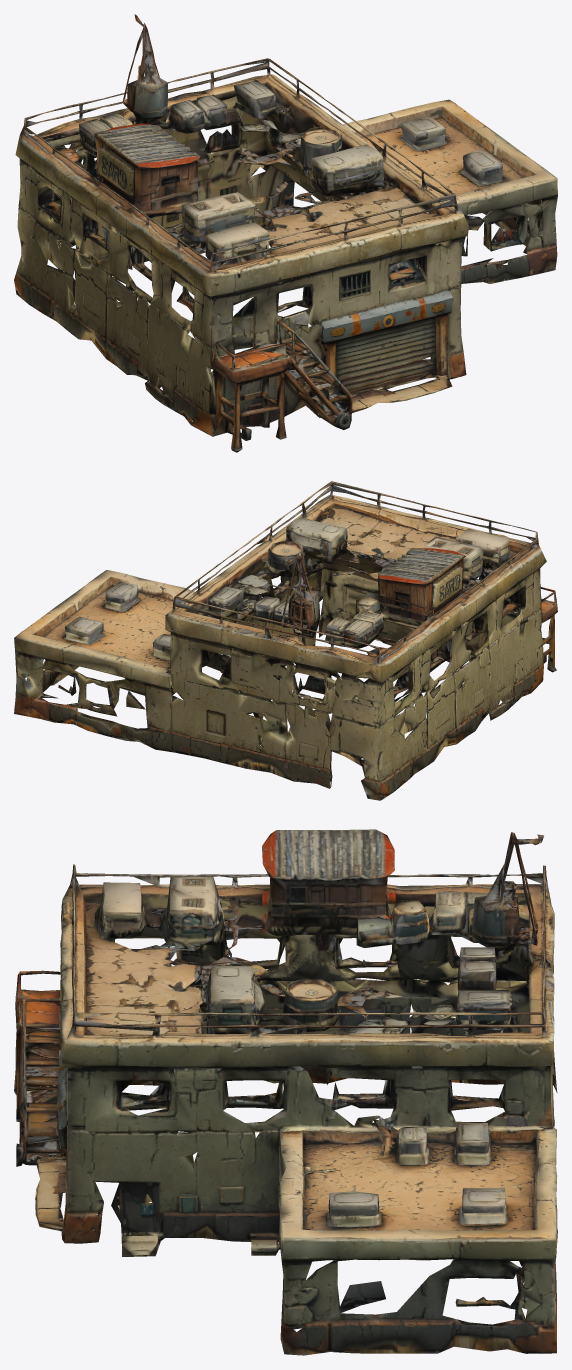
Rendered from Settle_MainBuilding.fbx.
3 renders of one model, top to bottom at view 1: azimuth 30°, elevation 25°; view 2: azimuth 150°, elevation 25°; view 3: azimuth 270°, elevation 25°, orthographic. The views are drawn at different scales.
Visible parts, largest first — view 1: texture_mapping; view 2: texture_mapping; view 3: texture_mapping.
Part boxes in pixels (x1,y1,x2,y2): texture_mapping: (14,14,557,452); texture_mapping: (14,481,557,800); texture_mapping: (14,829,557,1355).
Bounding box in the file's own units: 0.9879 × 0.845 × 0.5681.
1 material, 1 textured.
